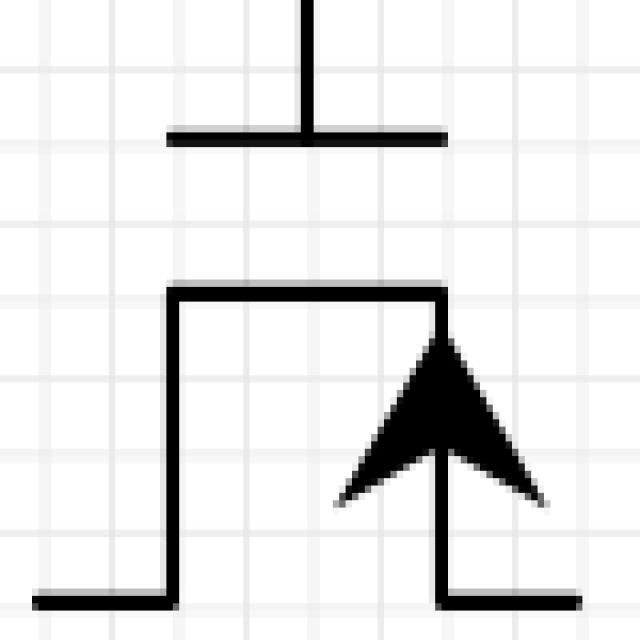pmos: (31, 51, 609, 640)
